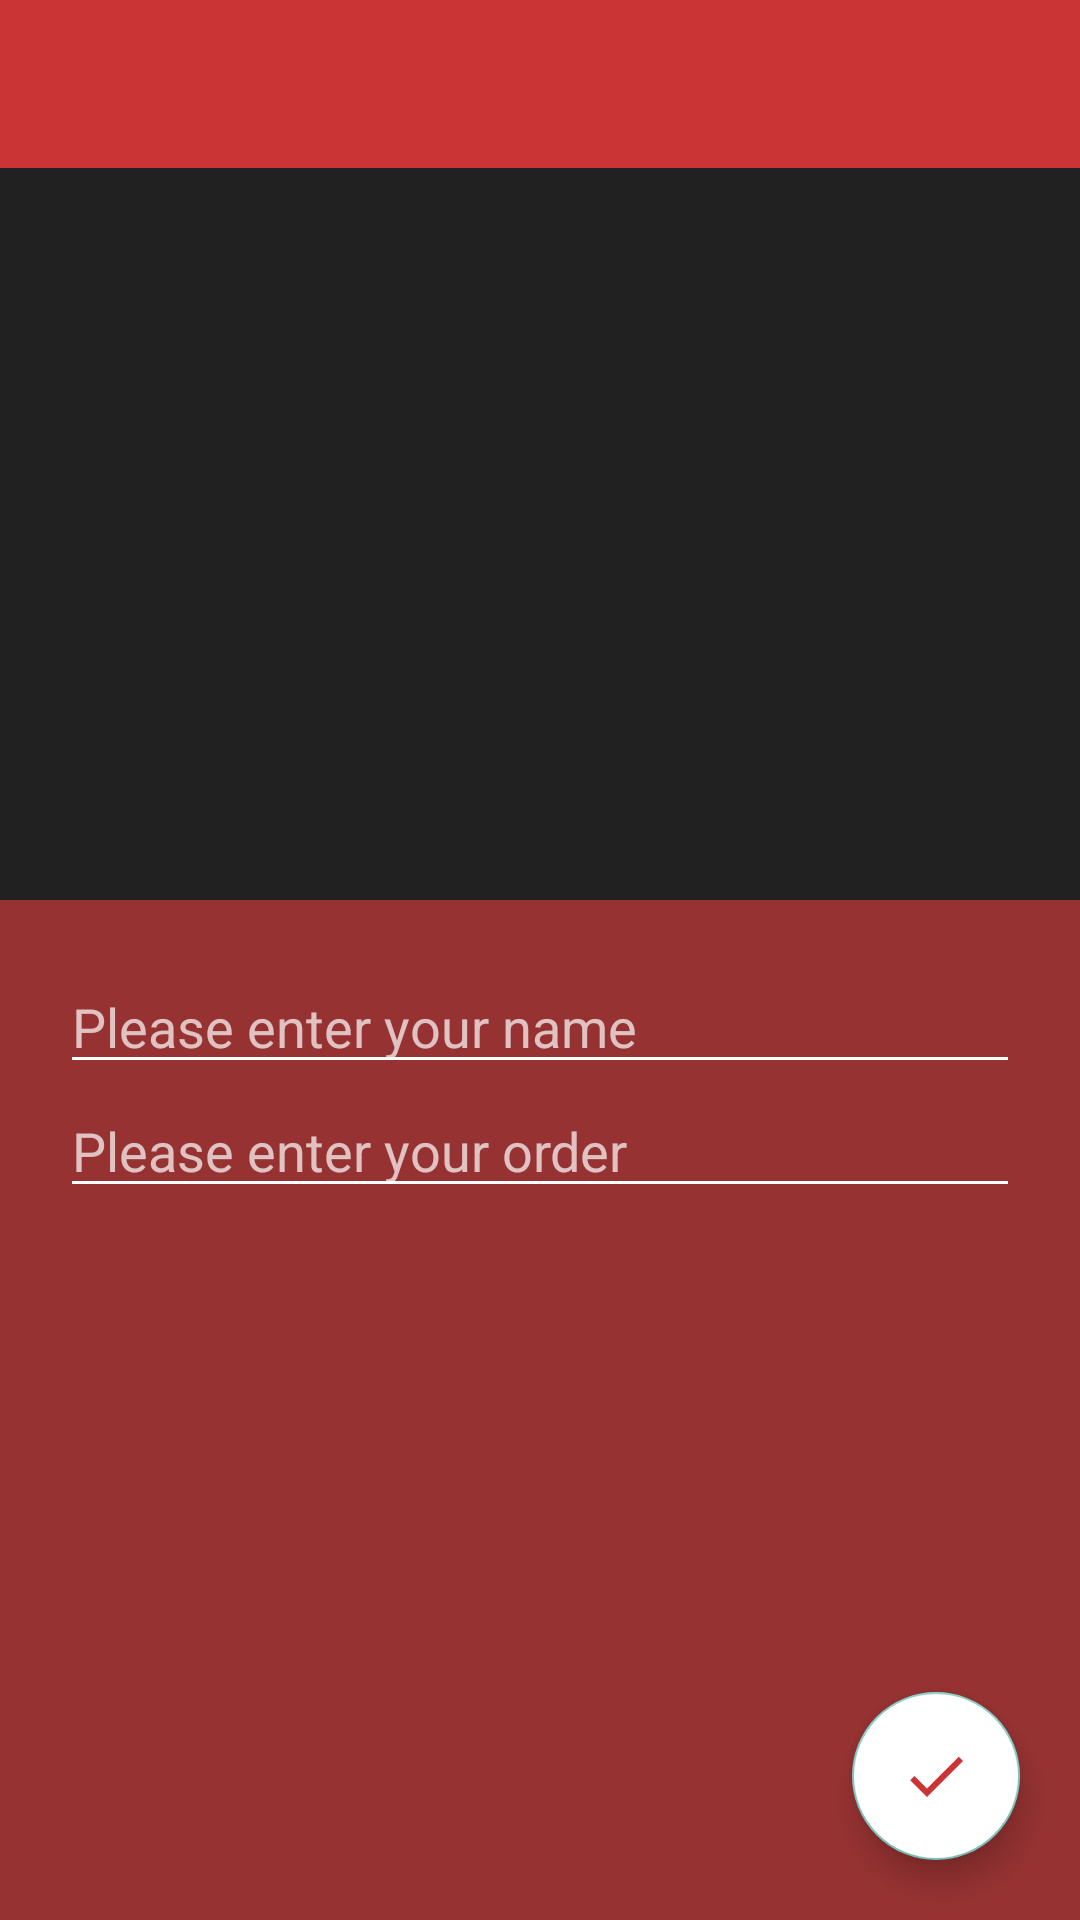

Screen size 1080px x 1920px. Icon name, then its box in pixels as Rect(x1, y1, x2, y2):
done: Rect(852, 1692, 1020, 1860)
